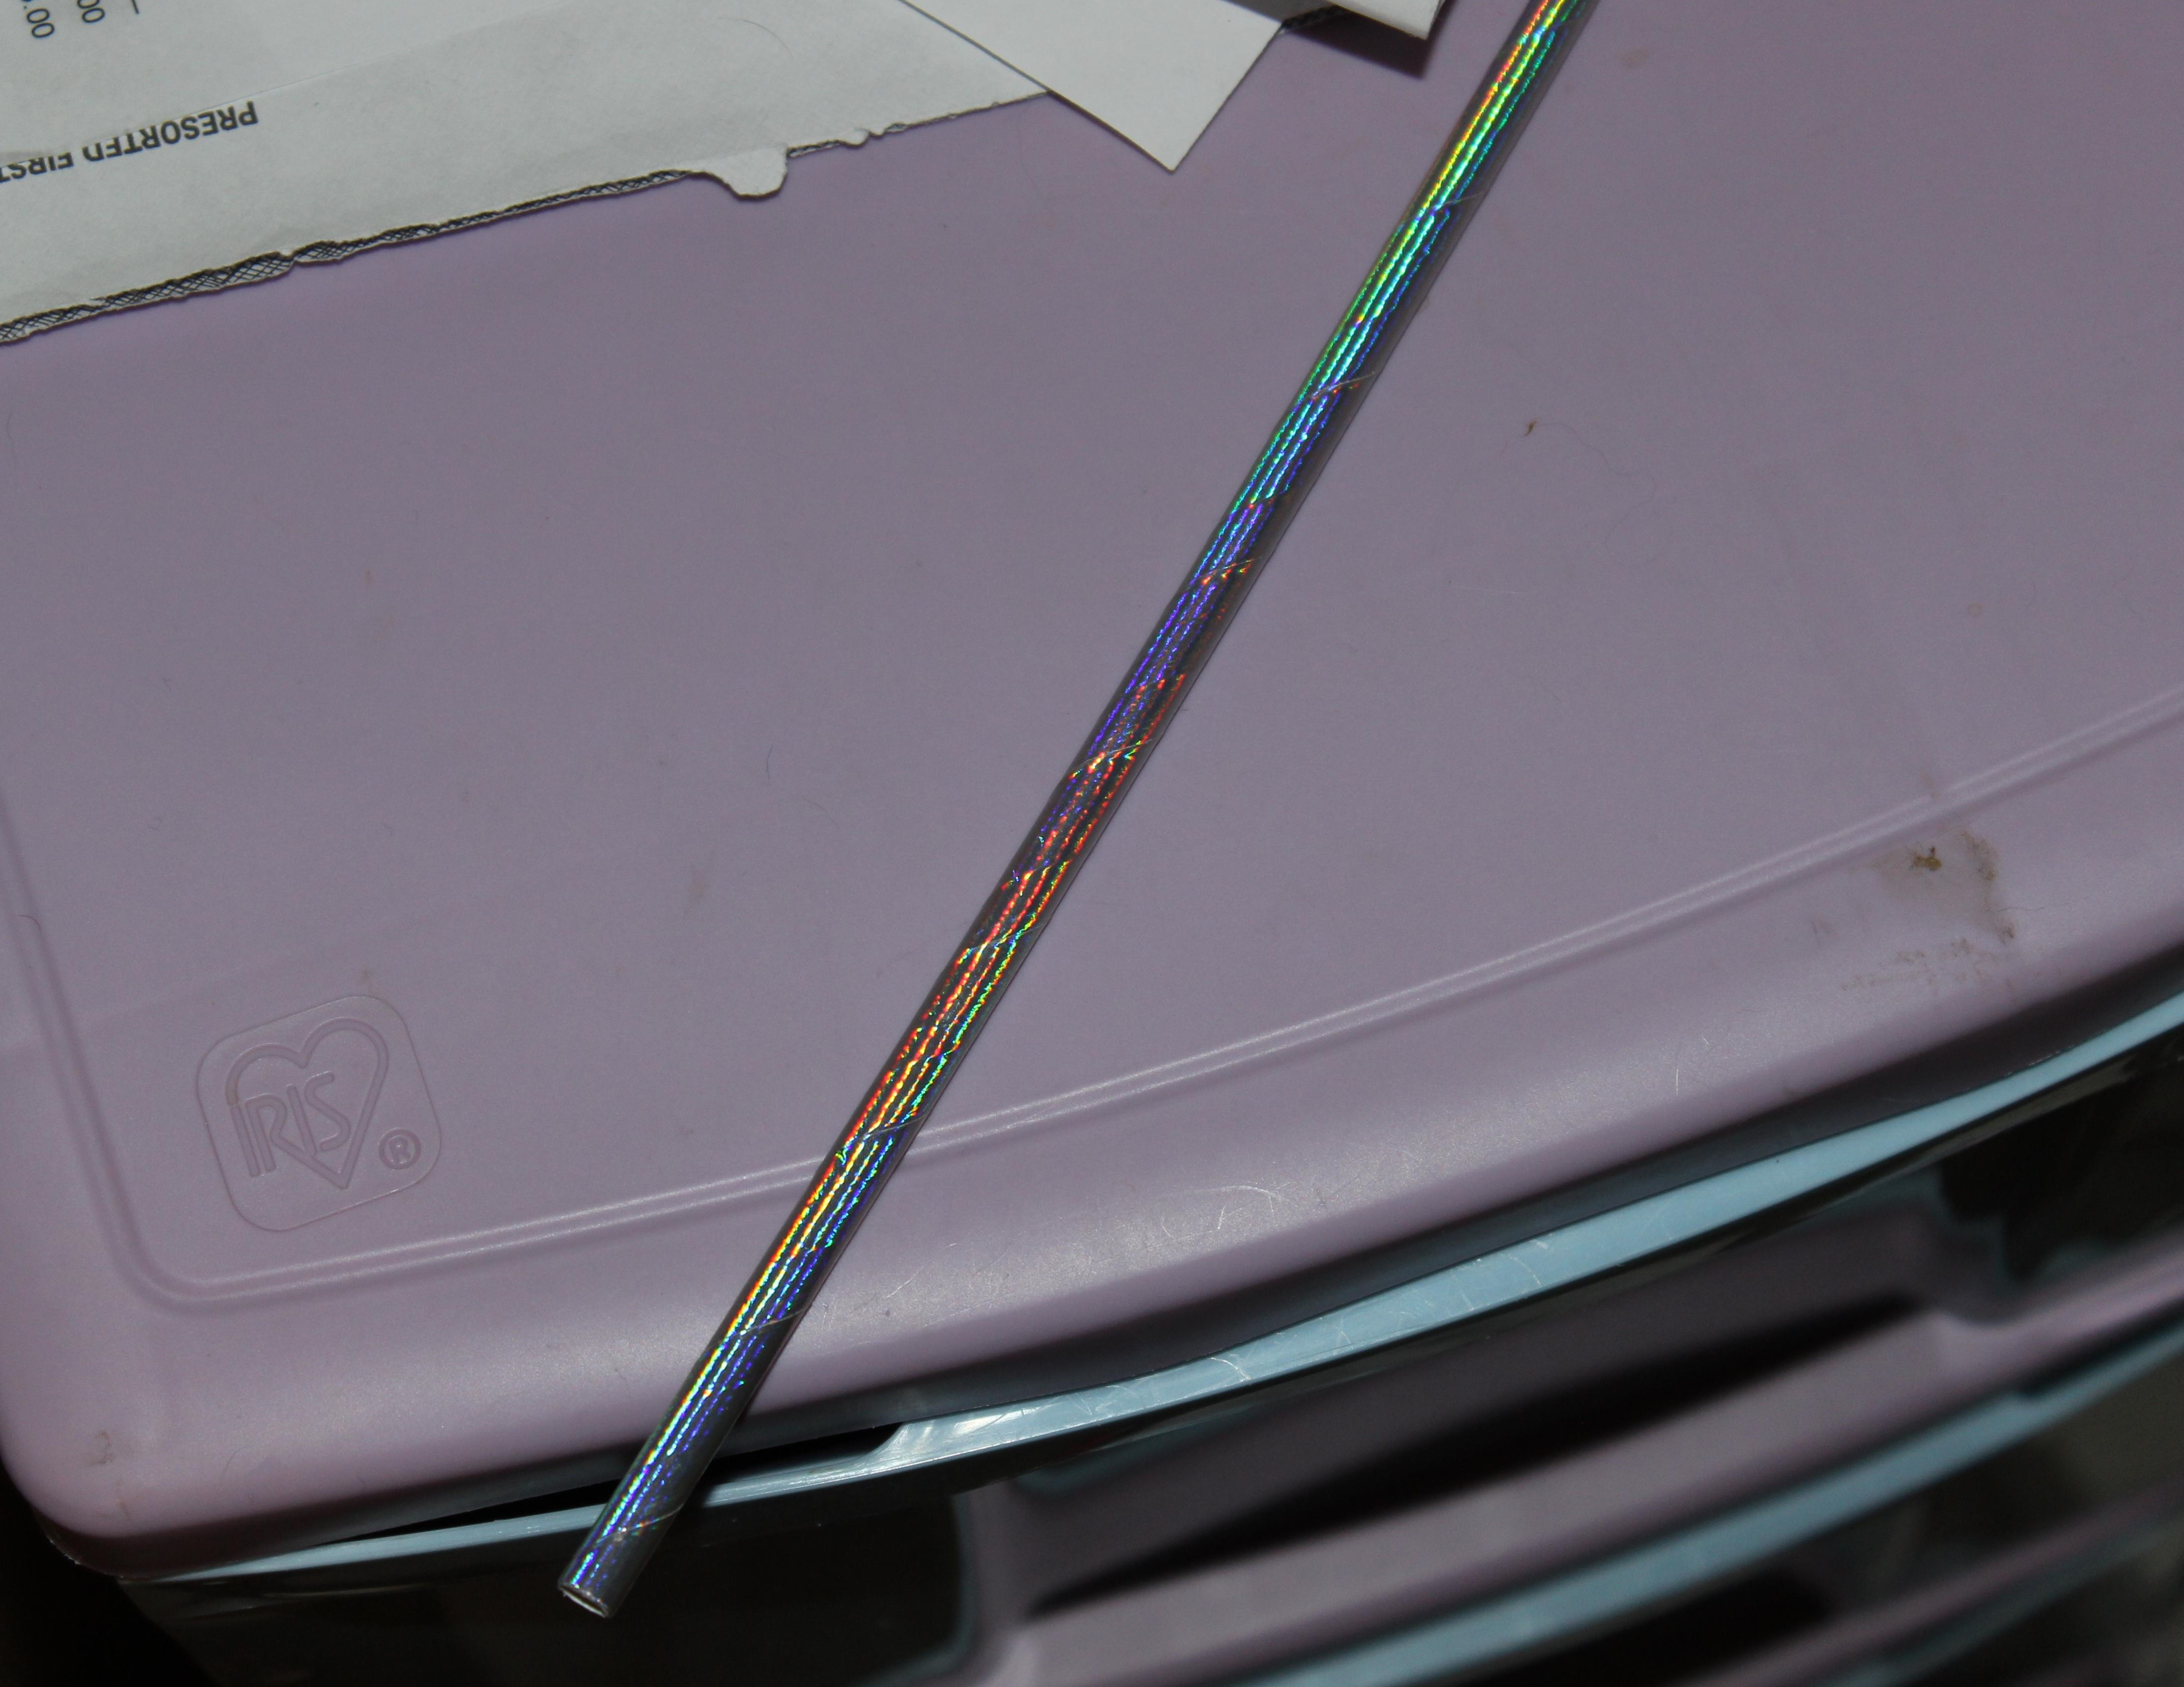silverStraw: (539, 0, 1636, 1639)
